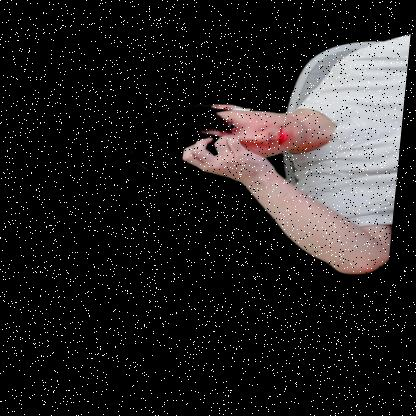streamer: (123, 35, 412, 289)
